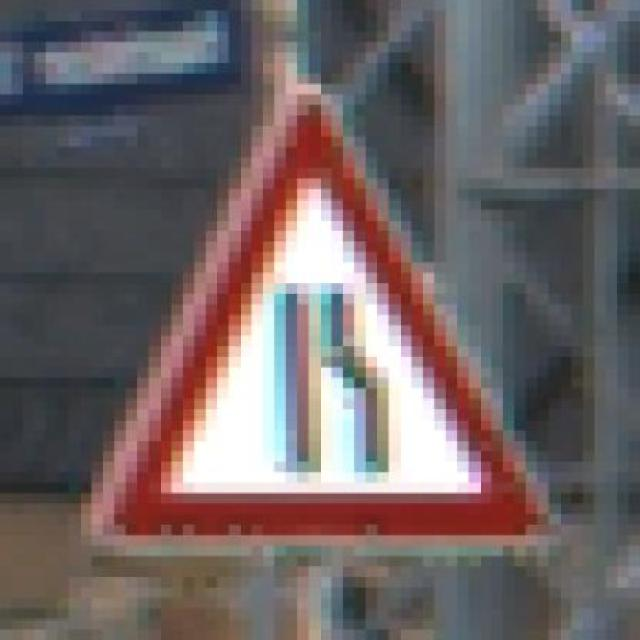-Road narrows on right: (69, 73, 572, 556)
